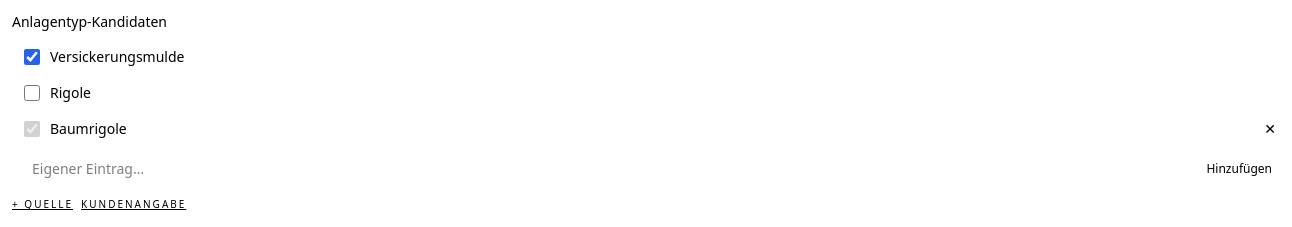
DynamicField — extensible checklist (tranche 3) › custom entries render as checked items with an ✕ remove that deletes them from the store
This screenshot has width=1292, height=227.
Expected: the element with test id "custom-checklist-entry" shows "Baumrigole", [50, 119, 127, 138]
Expected: the checkbox named "Baumrigole" is checked, [24, 121, 40, 137]
Click the button named "Baumrigole entfernen": (1270, 129) [1260, 119, 1280, 139]
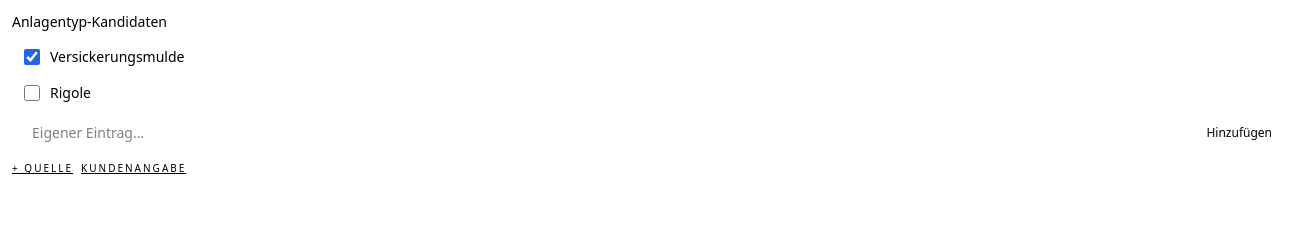
Result: the element with test id "custom-checklist-entry" is gone
